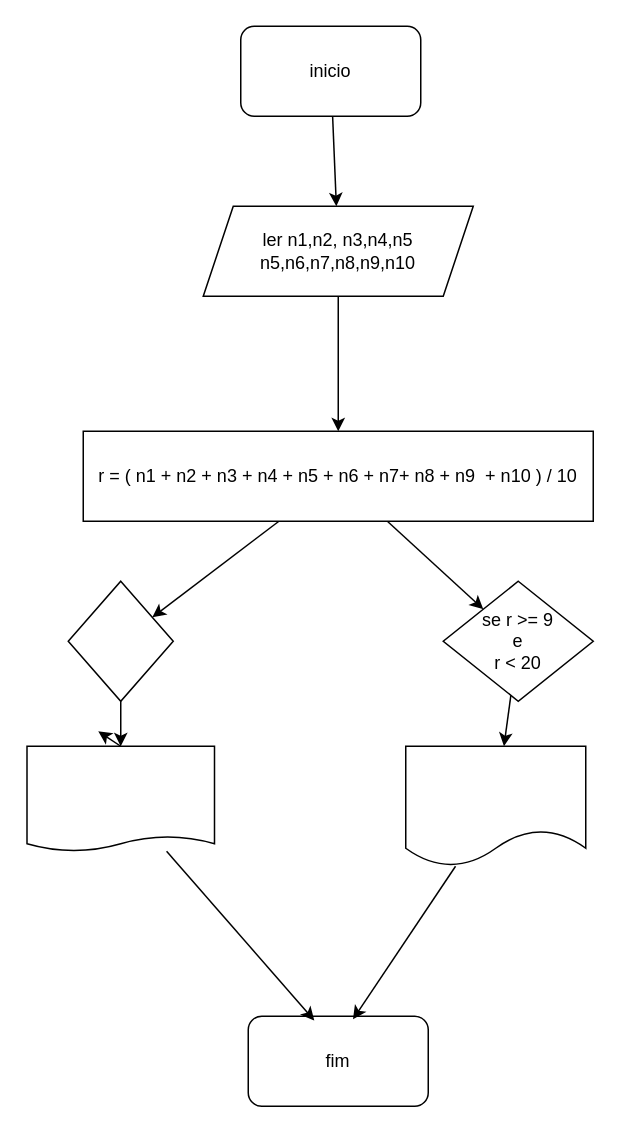
Some shapes in this 620 by 1133 pixel diagram are drawn without their labels. The shapes that lost their labels are listed below. From the top down, each one's box as (x1, y1, x2, y2) in pixels, then its label:
(67, 580, 173, 701): se r <= 9
(26, 745, 214, 851): escrever reprovado
(404, 745, 586, 866): escrever aprovdo
